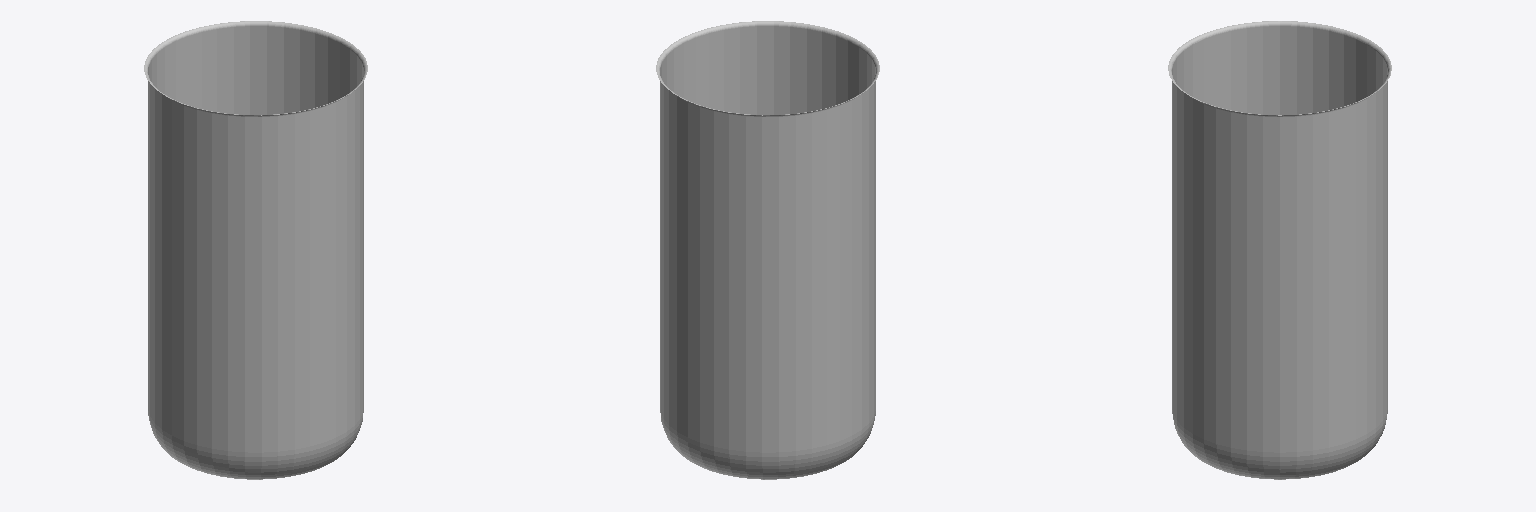
The model's file is original-3.obj.
3 views of the same model, side by side, from view 1: azimuth 30°, elevation 25°; view 2: azimuth 150°, elevation 25°; view 3: azimuth 270°, elevation 25° (orthographic).
Visible parts, largest first — view 1: #ID156; view 2: #ID156; view 3: #ID156.
Boxes of the visible parts, box(x1,y1,x2,y2) form: #ID156: box(144, 21, 367, 479); #ID156: box(656, 21, 879, 479); #ID156: box(1168, 21, 1391, 479).
Bounding box in the file's own units: 0.1569 × 0.2903 × 0.1569.